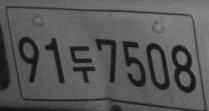0: (147, 42, 170, 89)
1: (42, 38, 68, 83)
5: (121, 39, 147, 87)
7: (94, 38, 118, 83)
8: (171, 44, 196, 92)
9: (17, 35, 41, 83)
두: (69, 45, 95, 83)
